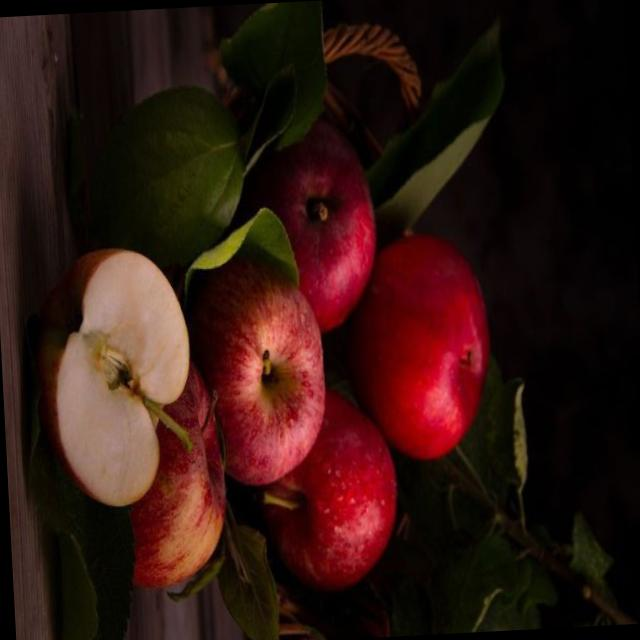Tao: (28, 241, 200, 513), (344, 232, 504, 470), (74, 336, 224, 586), (186, 257, 342, 482), (258, 378, 396, 586), (274, 132, 376, 337)
